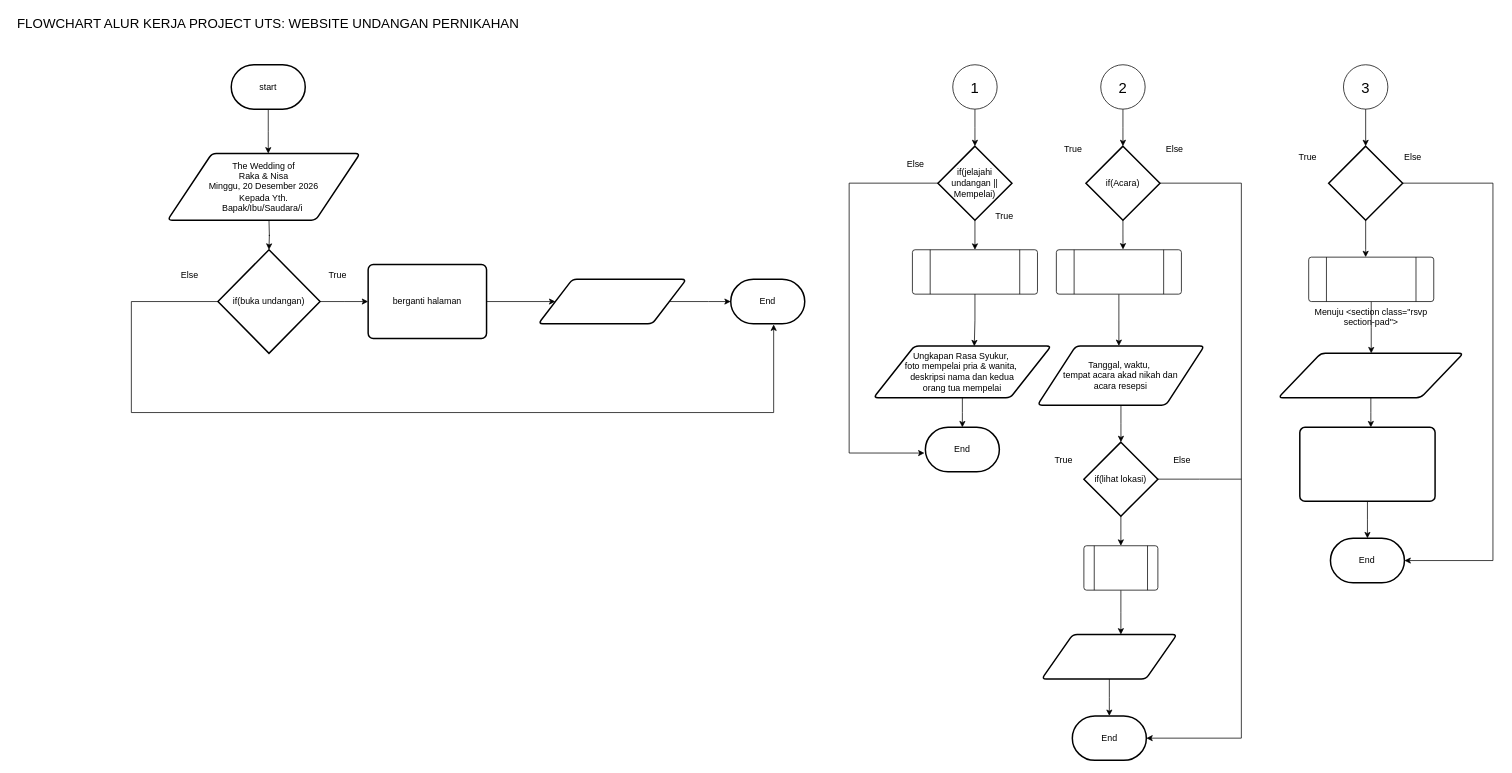
The diagram is 1512 pixels wide and 773 high, and some of its shapes have lost their labels. Here are the shapes that lost their labels. From the top down, the box of each, then its label:
(1328, 145, 1403, 221): if(RSVP)
(912, 249, 1037, 294): Menuju section<couple section-pad>
(1056, 249, 1181, 294): Menuju <section class="event section-pad">
(537, 278, 687, 324): Menampilkan semua konten website
(1277, 352, 1464, 398): Form konfirmasi Kehadiran mulai dengan nama lengkap, konfirmasi dan jumlah tamu
(1299, 426, 1435, 502): Mengirimkan data user ke server
(1083, 545, 1158, 590): Menuju google maps
(1041, 633, 1177, 679): Lokasi Akad & Resepsi
